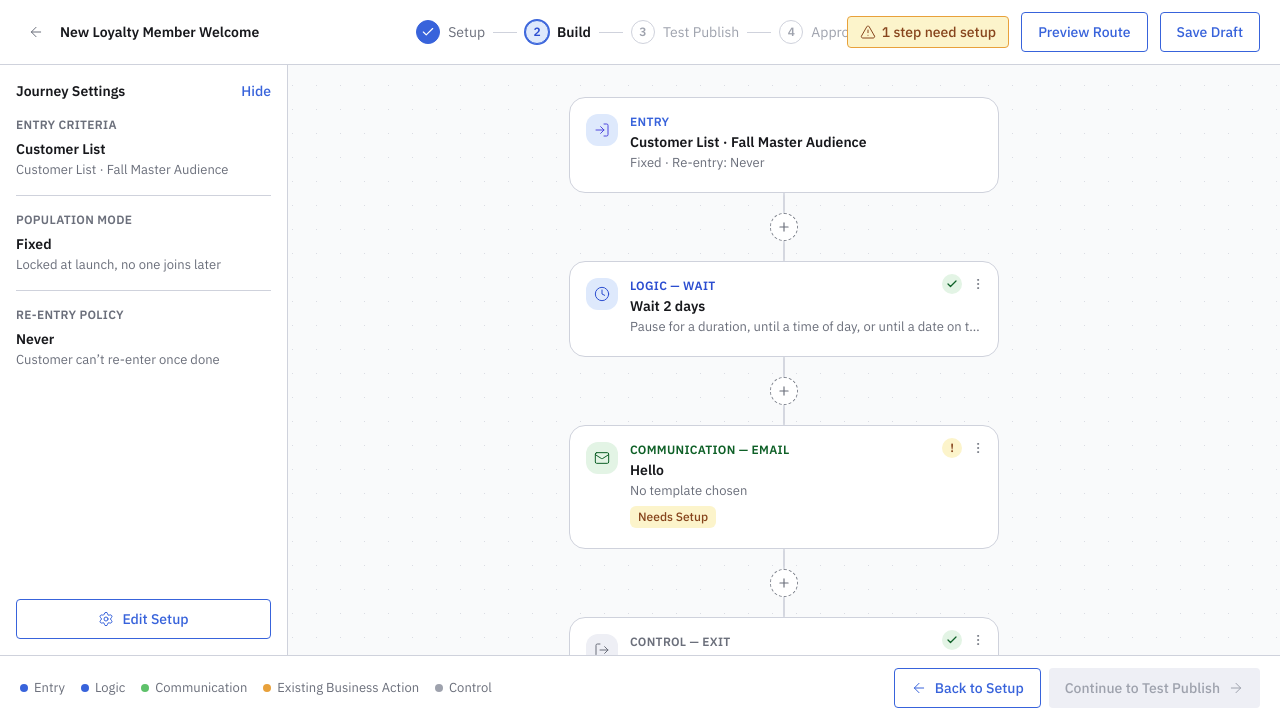
Test: a stale save reports that someone else saved the journey
Click the button "Edit Setup".
click(144, 619)  # box x1=16 y1=599 x2=271 y2=639
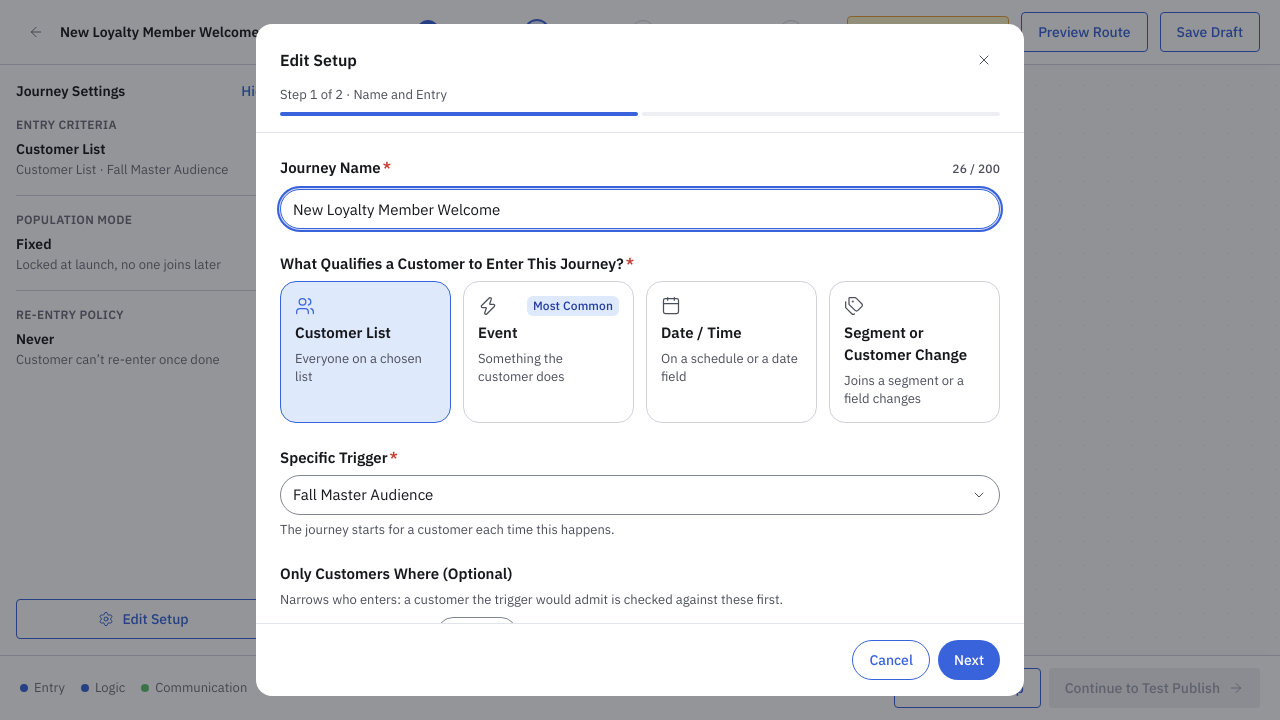
Click the button "Next".
click(969, 660)  # box x1=938 y1=640 x2=1000 y2=680
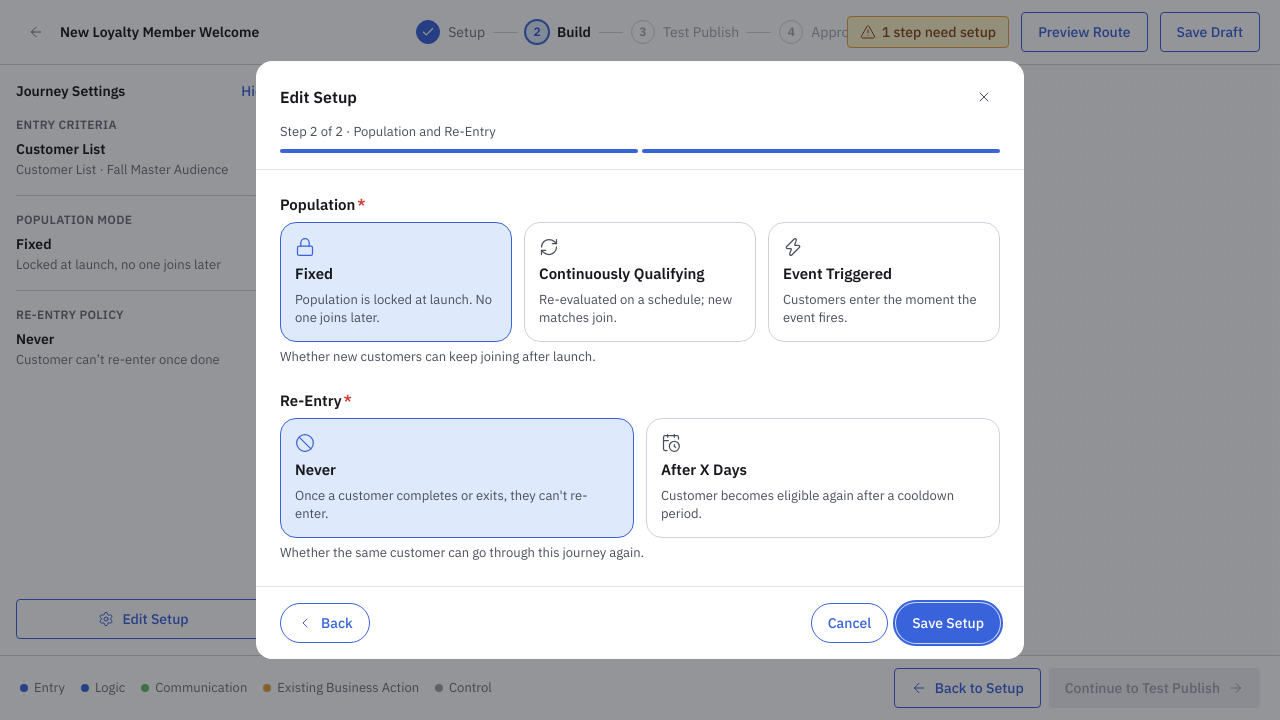
Click the button "Save Setup".
click(948, 623)  # box x1=896 y1=603 x2=1000 y2=643
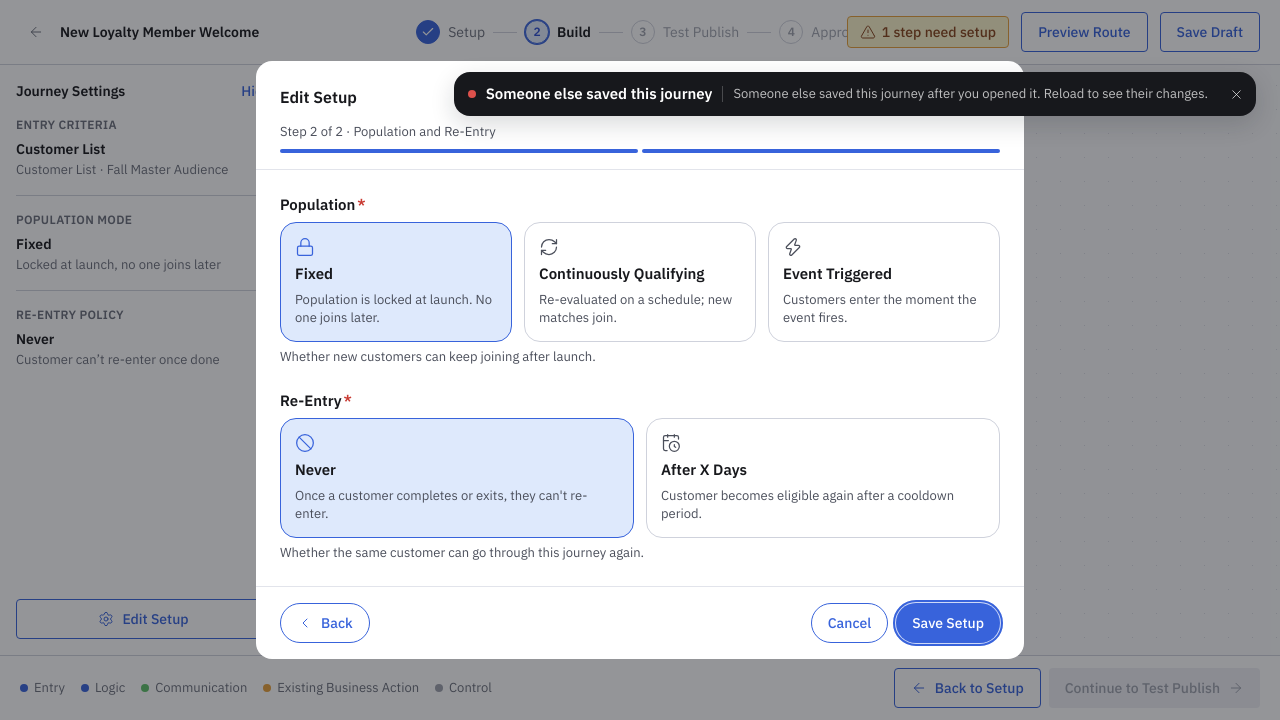
expect the dialog "Edit Setup" is shown: met, box x1=256 y1=61 x2=1024 y2=659
expect the text "Someone else saved this journey" is shown: met, box x1=486 y1=83 x2=712 y2=105
